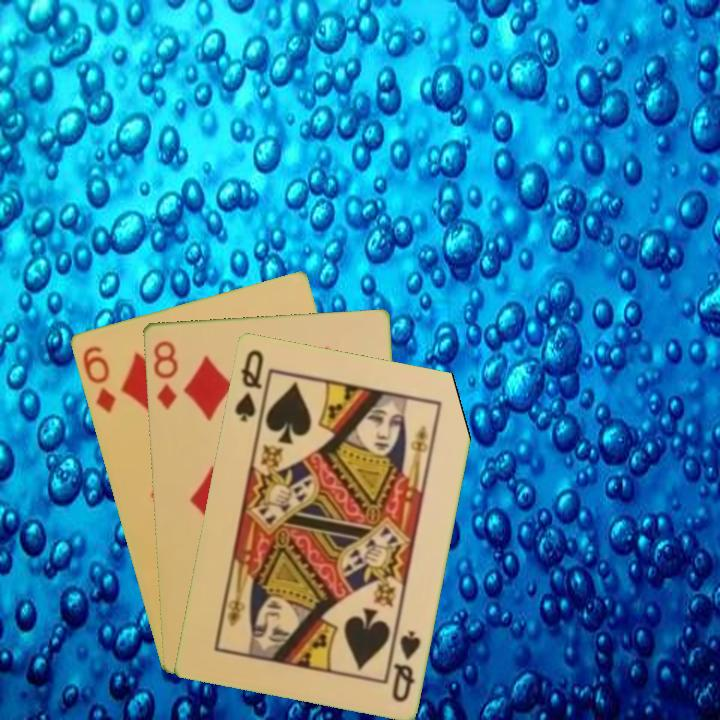6d: (78, 342, 119, 416)
8d: (149, 337, 180, 413)
Qs: (383, 624, 423, 705), (230, 345, 266, 425)
